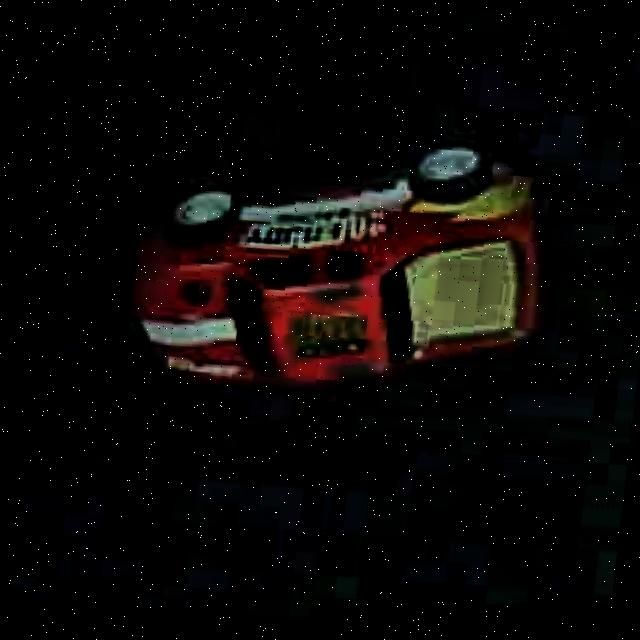car: (114, 82, 568, 443)
